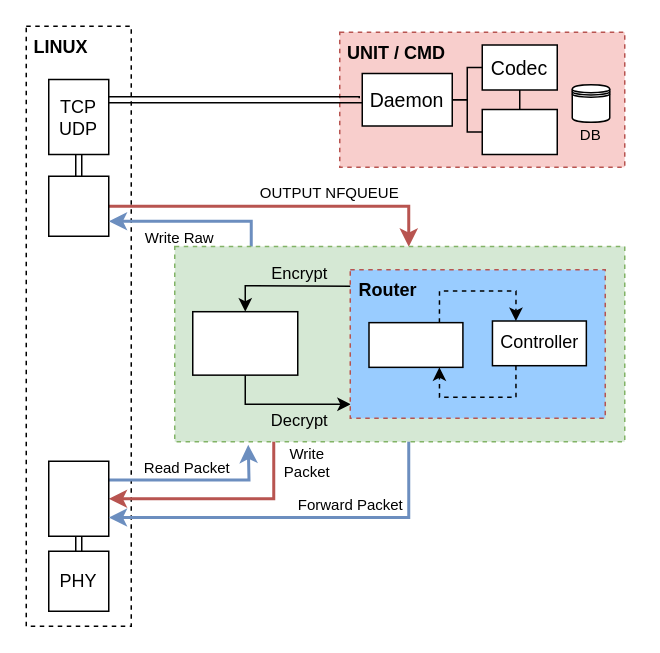
Image size: 660x653. Some labels were removed from this diagram. The shapes that lost their labels are listed below. From the top down, each one's centre as x and y in pixels, then its label:
point (519, 131): UI
point (78, 205): IP
point (244, 342): M-Sec
point (415, 344): Forwarder
point (78, 498): MAC
